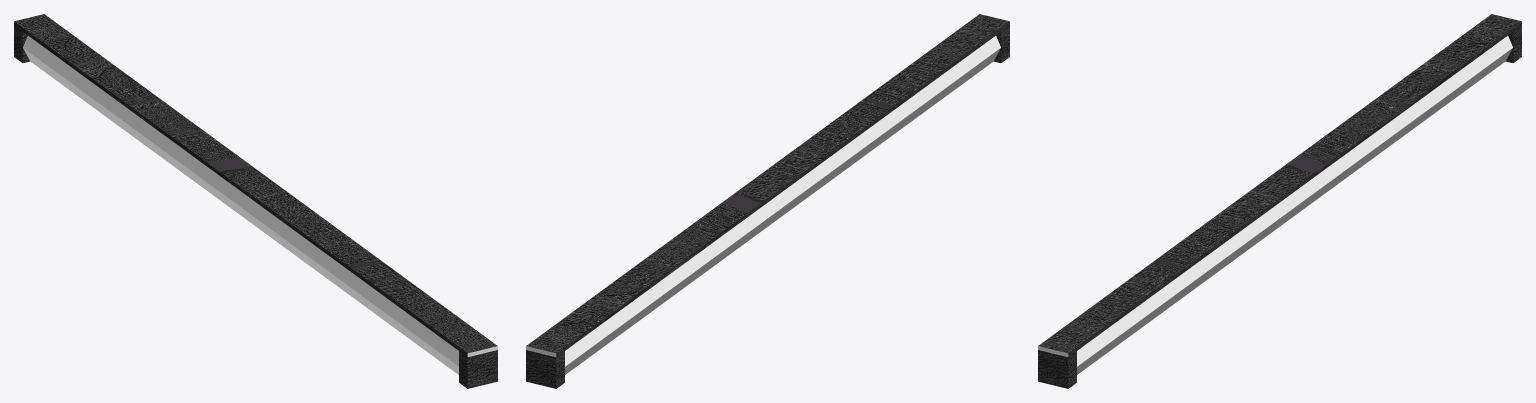
The model's file is Lamp02.fbx.
3 views of the same model, side by side, from view 1: azimuth 30°, elevation 25°; view 2: azimuth 150°, elevation 25°; view 3: azimuth 330°, elevation 25° (orthographic).
Visible parts, largest first — view 1: node_id8, node_id11 (×2); view 2: node_id8, node_id11 (×2); view 3: node_id8, node_id11 (×2).
Boxes of the visible parts, left/top/right/bottom form: node_id8: left=14, top=14, right=497, bottom=356; node_id11 (×2): left=23, top=36, right=497, bottom=388; node_id8: left=526, top=14, right=1009, bottom=356; node_id11 (×2): left=526, top=36, right=1000, bottom=388; node_id8: left=1038, top=14, right=1521, bottom=356; node_id11 (×2): left=1038, top=36, right=1512, bottom=388.
Bounding box in the file's own units: 0.4551 × 0.512 × 11.83.
6 materials, 3 textured.
